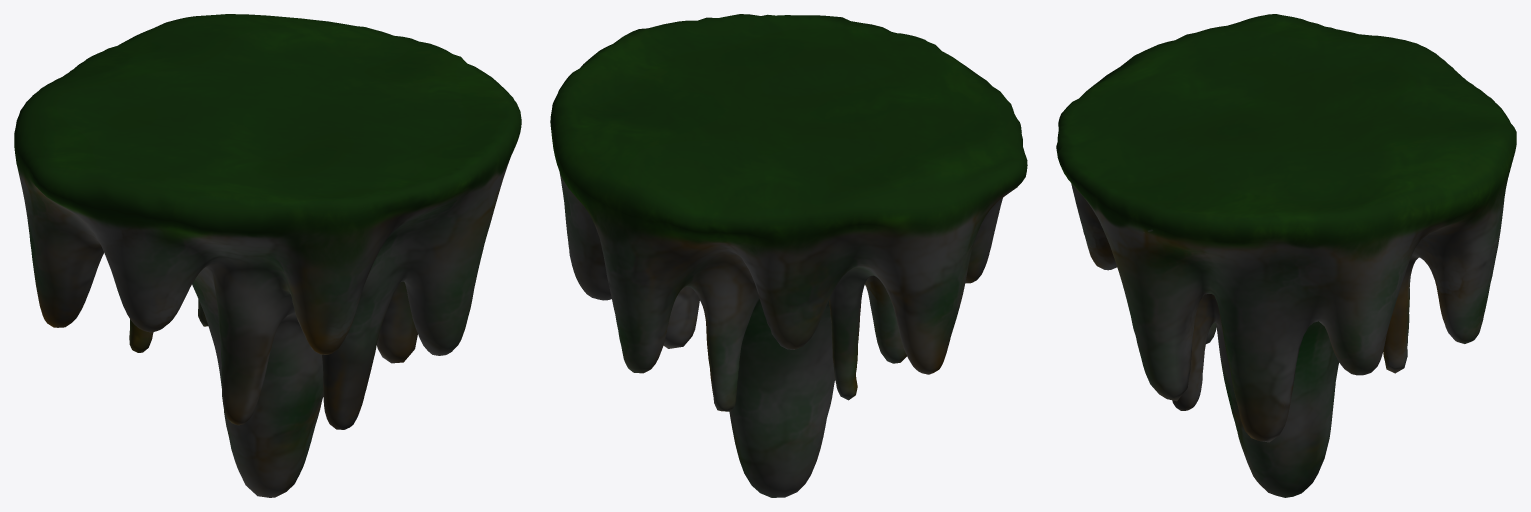
File: platform.glb
The picture shows the model from 3 angles, left to right: view 1: azimuth 30°, elevation 25°; view 2: azimuth 150°, elevation 25°; view 3: azimuth 270°, elevation 25°; orthographic projection. The views are drawn at different scales.
Parts seen in each view (by area): view 1: iSLAND Main; view 2: iSLAND Main; view 3: iSLAND Main.
Boxes of the visible parts, box(x1,y1,x2,y2) form: iSLAND Main: box(14, 14, 521, 497); iSLAND Main: box(550, 14, 1027, 497); iSLAND Main: box(1056, 14, 1516, 497).
Size of the model in its own units: 4.5 by 3.81 by 4.2.
Materials: 1 (1 with a texture image).
